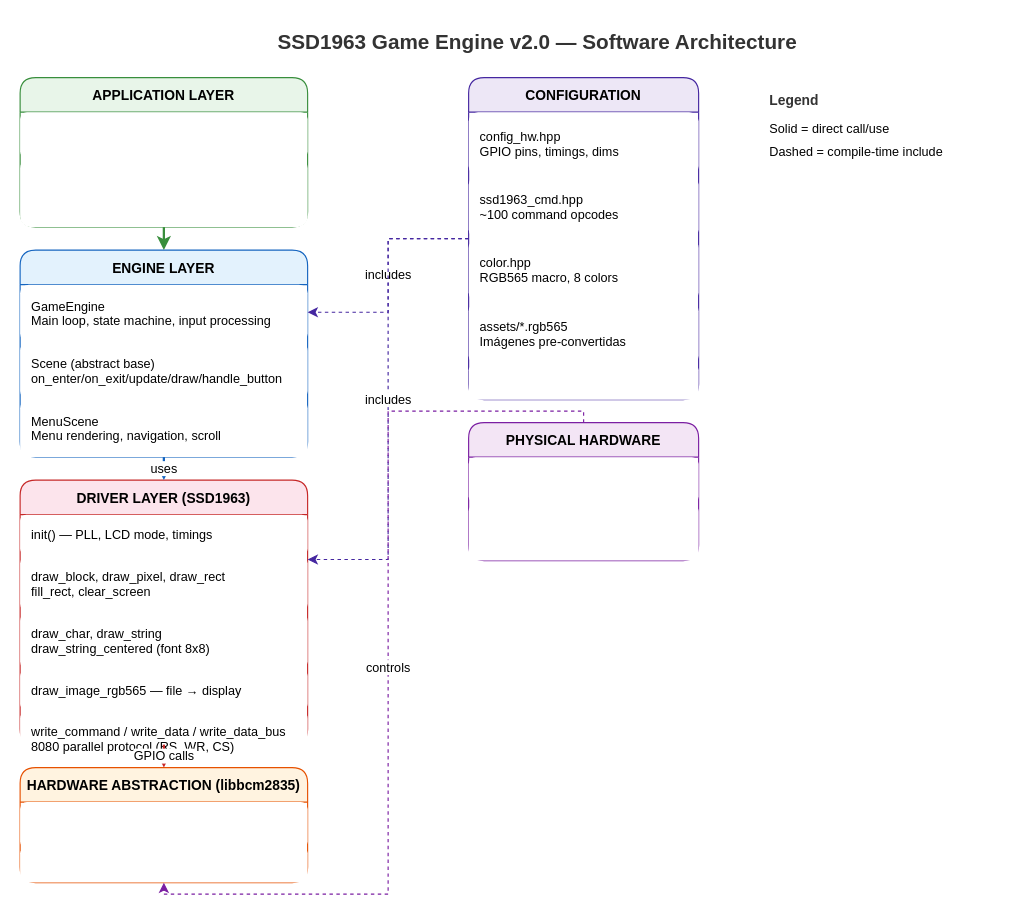
Image size: 1018x923. Some labels were removed from this diagram. The centre of each missing label's shape, as x and y in pixels:
"bcm2835_delay, bcm2835_st_read (timing)" goes at point (163, 865).
"GPIO memory-mapped I/O bcm2835_gpio_fsel, bcm2835_gpio_write" goes at point (163, 825).
"main.cpp Entry point, engine bootstrap" goes at point (163, 135).
"Makefile Build system + remote targets" goes at point (583, 382).
"Raspberry Pi (Zero 2W / Pi 4)" goes at point (583, 480).
"Scenes: Menu, ColorBlocks, ImageViewer, Paint, Patterns" goes at point (163, 192).
"SSD1963 TFT LCD 480x272, RGB565, 16-bit parallel" goes at point (583, 531).
